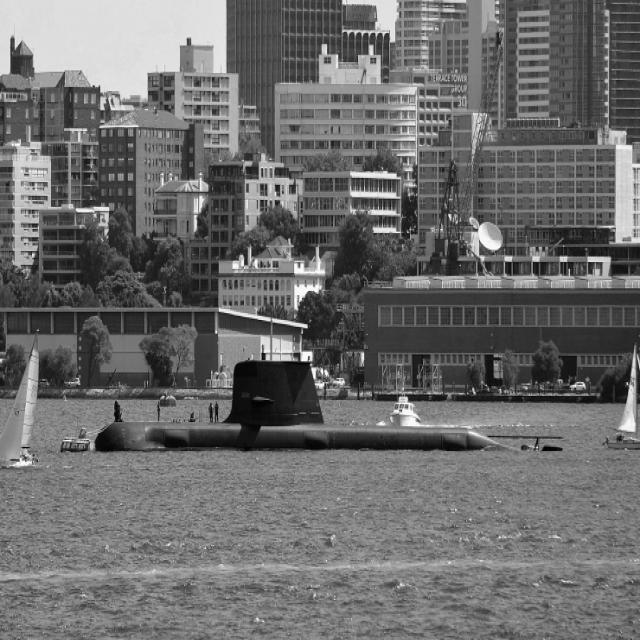submarine: (100, 364, 507, 451)
